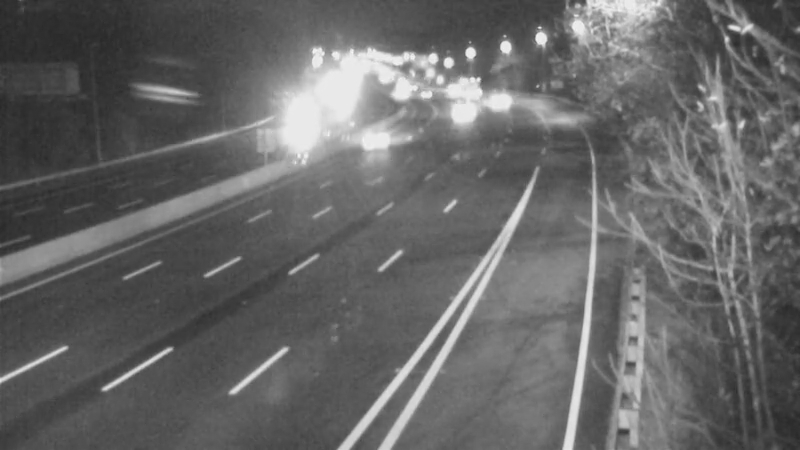vehicle: (443, 65, 493, 115), (400, 68, 450, 118), (377, 67, 427, 117), (469, 70, 519, 120), (430, 87, 480, 137), (352, 111, 402, 161), (272, 109, 322, 159)
